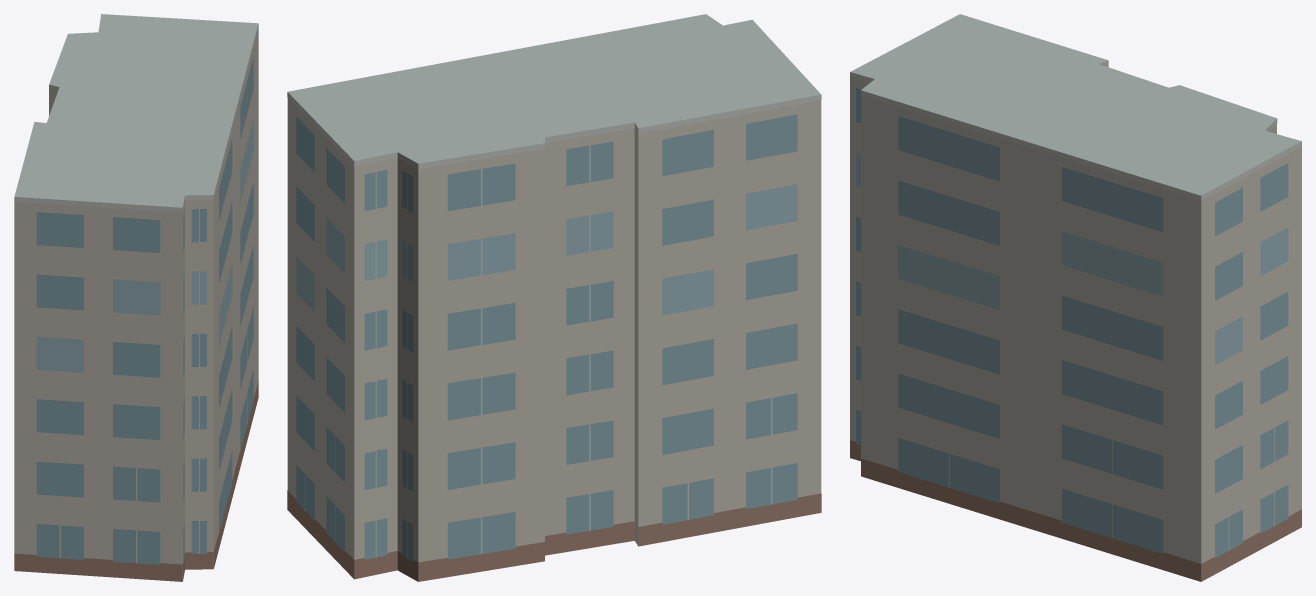
File: survey-upis-33004049.glb
The picture shows the model from 3 angles, left to right: view 1: azimuth 30°, elevation 25°; view 2: azimuth 150°, elevation 25°; view 3: azimuth 270°, elevation 25°; orthographic projection. The views are drawn at different scales.
Parts seen in each view (by area): view 1: survey-upis-33004049.tmp; view 2: survey-upis-33004049.tmp; view 3: survey-upis-33004049.tmp.
Boxes of the visible parts, x1,y1,x2,y2 form: survey-upis-33004049.tmp: (14, 14, 258, 581); survey-upis-33004049.tmp: (287, 14, 821, 581); survey-upis-33004049.tmp: (850, 14, 1301, 581).
Bounding box in the file's own units: 18.48 × 18.3 × 19.41.
